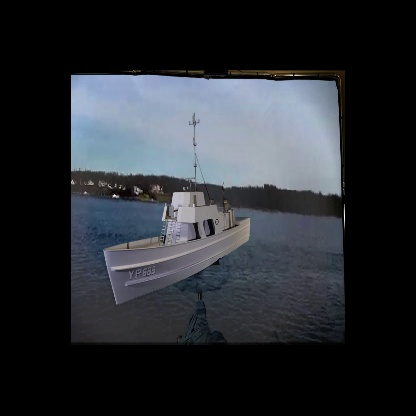YP689: (103, 115, 251, 306)
